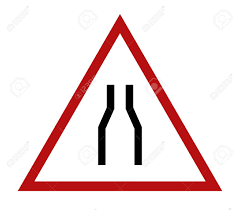Narrow_road: (16, 14, 224, 193)
